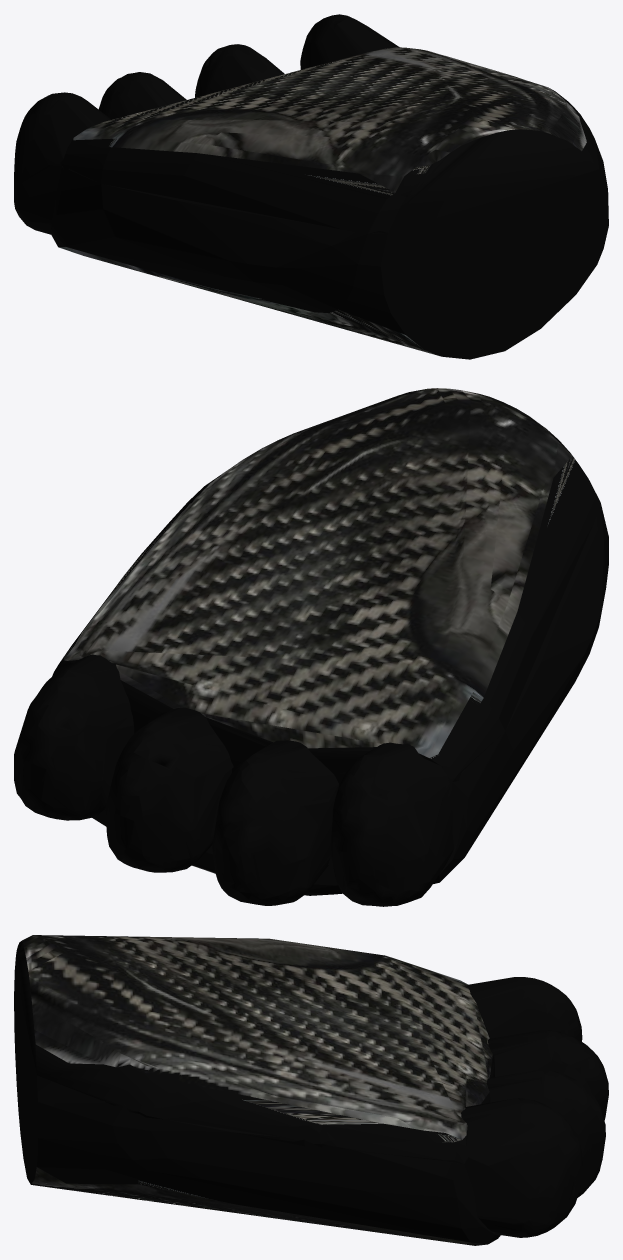
Rendered from FB_palm_ref_lp.glb.
3 views of the same model, one above another, from view 1: azimuth 30°, elevation 25°; view 2: azimuth 150°, elevation 25°; view 3: azimuth 270°, elevation 25° (orthographic). The views are drawn at different scales.
Visible parts, largest first — view 1: FB_palm_ref_lp; view 2: FB_palm_ref_lp; view 3: FB_palm_ref_lp.
Boxes of the visible parts, x1,y1,x2,y2 form: FB_palm_ref_lp: (14, 14, 608, 359); FB_palm_ref_lp: (14, 388, 608, 906); FB_palm_ref_lp: (14, 935, 608, 1245).
Bounding box in the file's own units: 0.0813 × 0.053 × 0.1105.
1 material, 1 textured.
